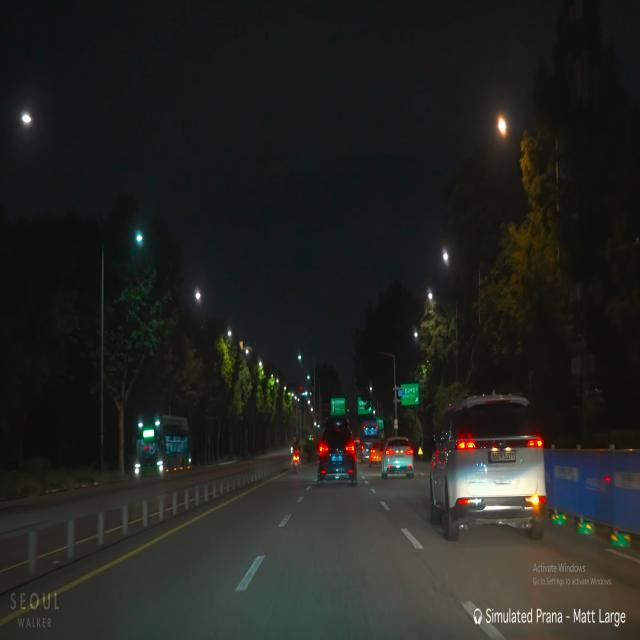headlights: (132, 454, 168, 479)
